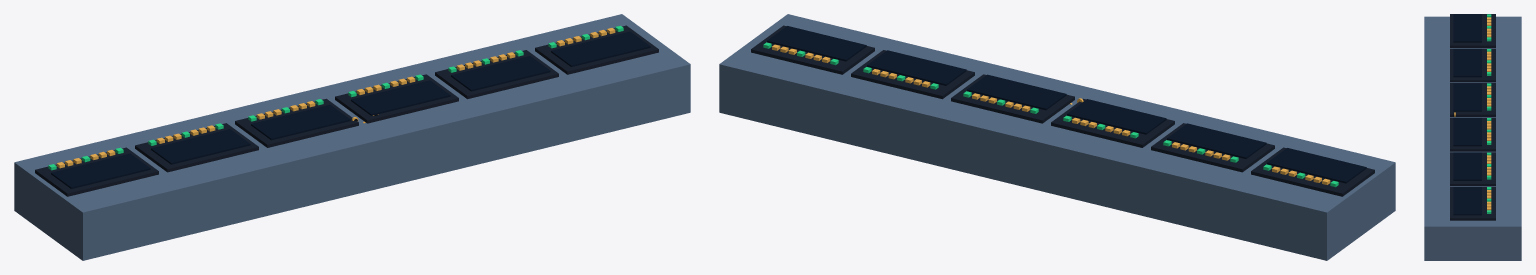
Rendered from 06_L91_NavigationCommandWorkstation.fbx.
The picture shows the model from 3 angles, left to right: view 1: azimuth 30°, elevation 25°; view 2: azimuth 150°, elevation 25°; view 3: azimuth 270°, elevation 25°; orthographic projection. The views are drawn at different scales.
Visible parts, largest first — view 1: L91_NavigationCommandWorkstation, L91_NavigationCommandWorkstation_Part_0002; view 2: L91_NavigationCommandWorkstation, L91_NavigationCommandWorkstation_Part_0002; view 3: L91_NavigationCommandWorkstation, L91_NavigationCommandWorkstation_Part_0002.
Boxes of the visible parts, left/top/right/bottom form: L91_NavigationCommandWorkstation: left=14, top=14, right=690, bottom=260; L91_NavigationCommandWorkstation_Part_0002: left=51, top=31, right=650, bottom=188; L91_NavigationCommandWorkstation: left=719, top=14, right=1395, bottom=260; L91_NavigationCommandWorkstation_Part_0002: left=767, top=26, right=1366, bottom=183; L91_NavigationCommandWorkstation: left=1424, top=14, right=1521, bottom=260; L91_NavigationCommandWorkstation_Part_0002: left=1453, top=14, right=1481, bottom=215.
Bounding box in the file's own units: 1380 × 126 × 270.
